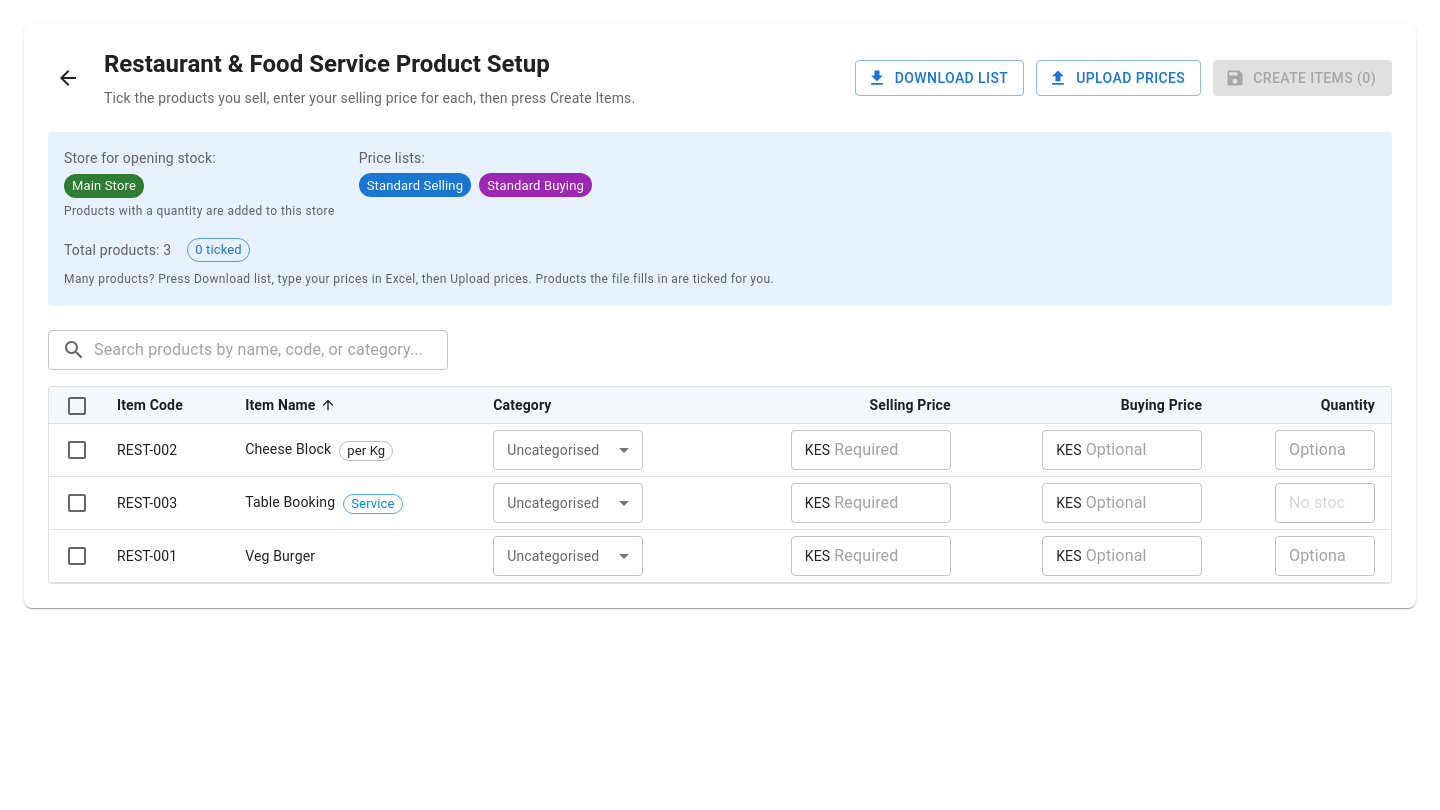
it: Starter products page › units and services sent by the server › still refuses parts of a piece
expect the text "Veg Burger" is shown: met, box [229, 529, 477, 582]
Click the checkbox named "Tick Veg Burger" at (77, 556), box [65, 544, 89, 568]
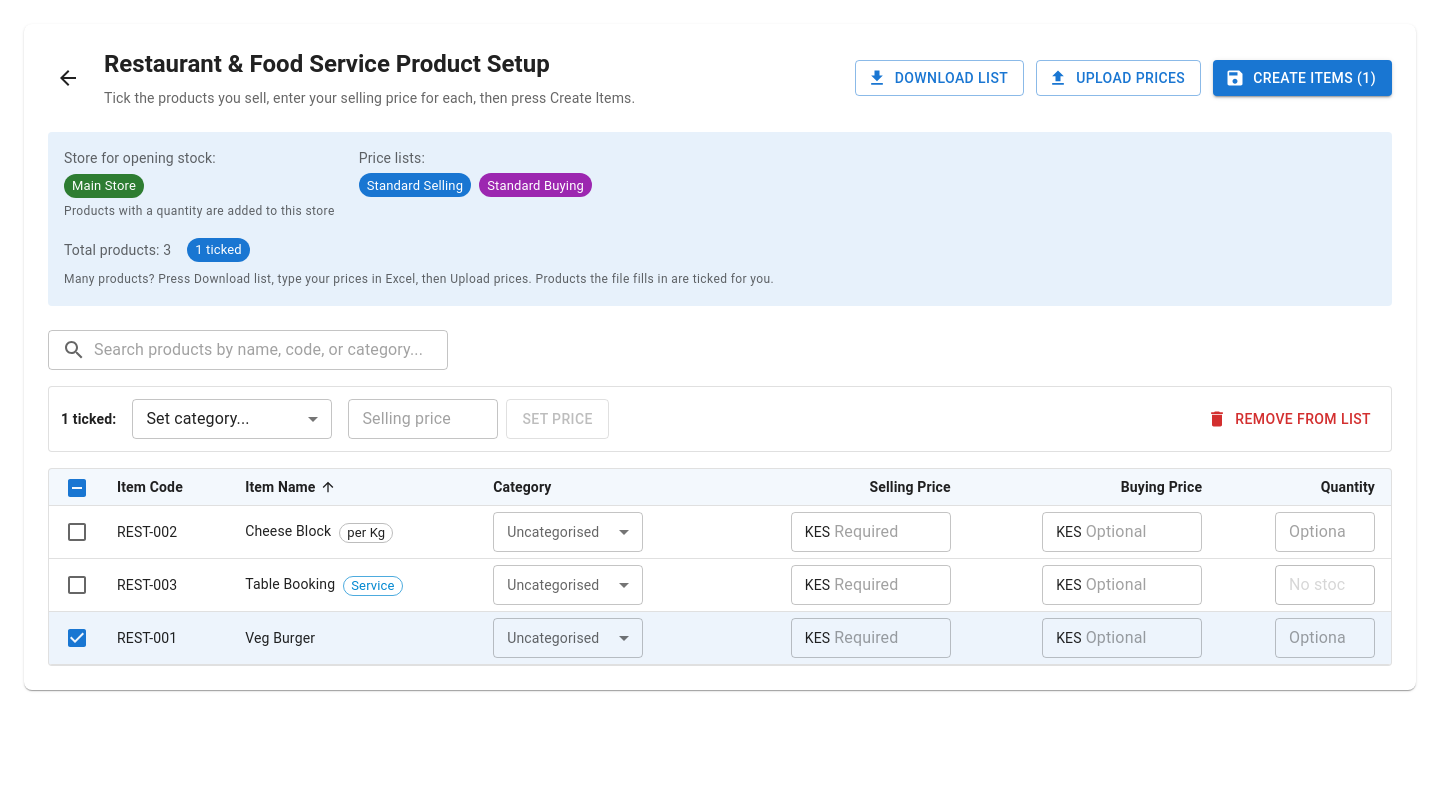
Type "350" into the number field named "Selling price for Veg Burger" at (893, 638), box [834, 618, 951, 658]
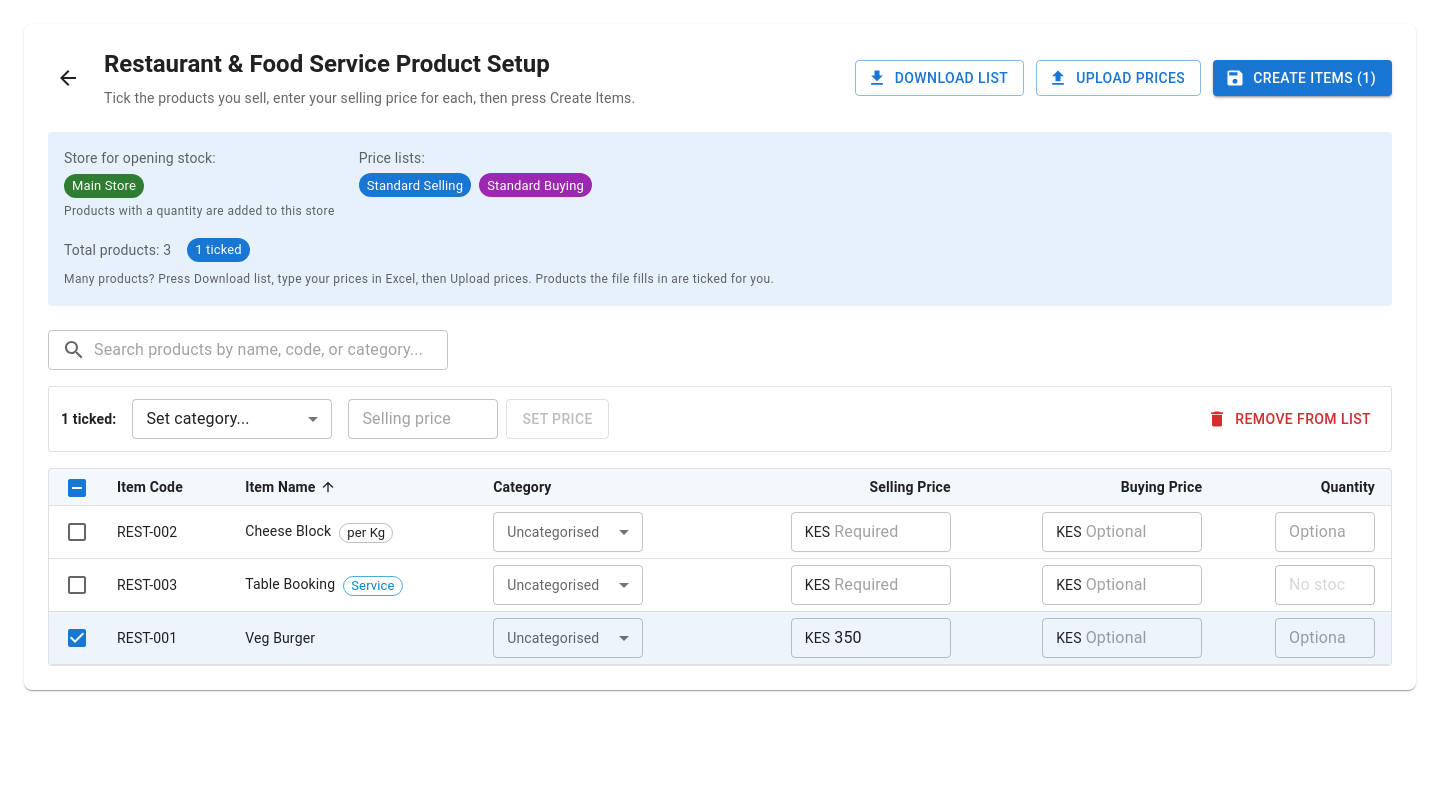
Type "2.5" into the number field named "Quantity for Veg Burger" at (1325, 638), box [1275, 618, 1375, 658]
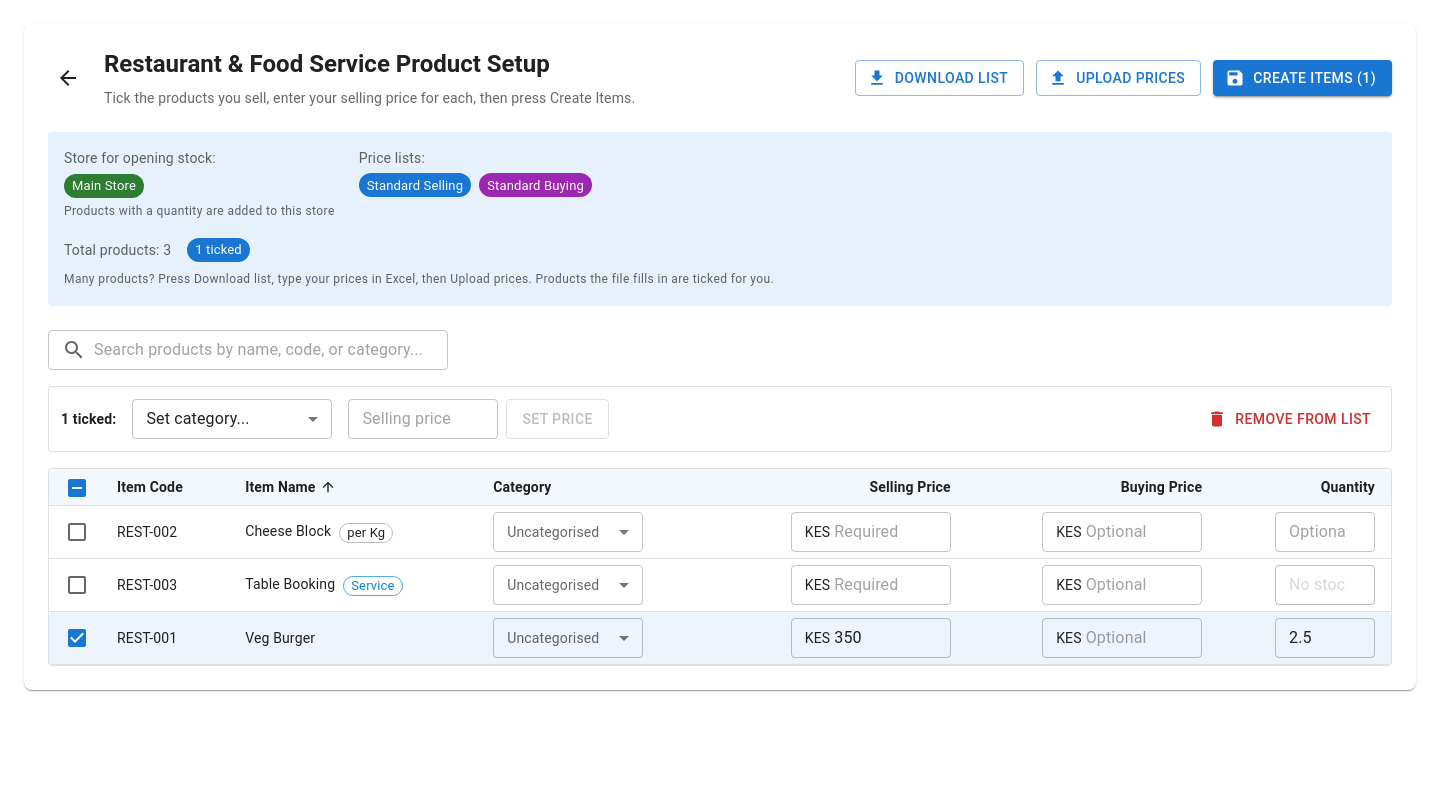
Click the button "Create Items (1)" at (1303, 78), box [1213, 60, 1392, 96]
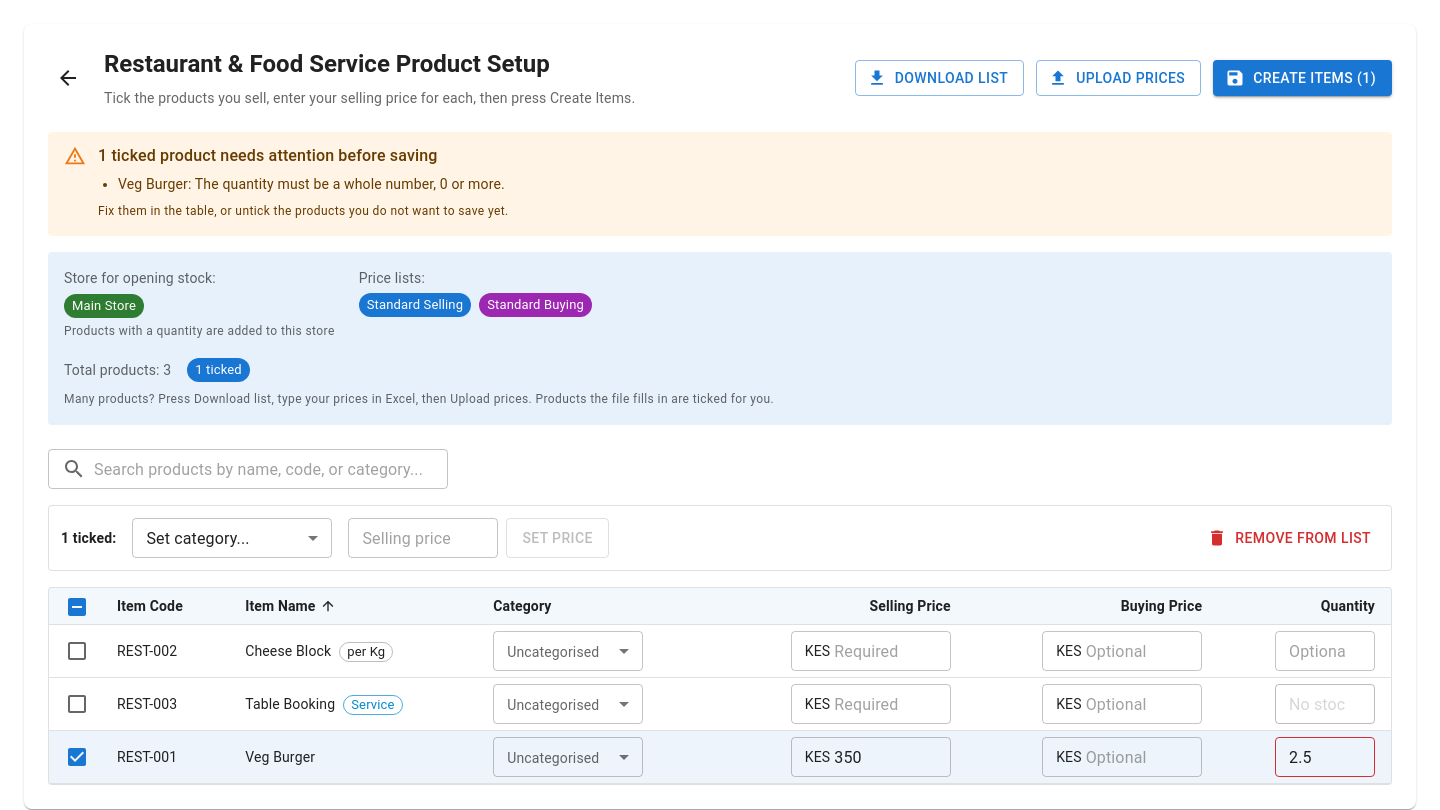
expect the list item "Veg Burger: The quantity must be a whole number, 0 or more." is shown: met, box [118, 174, 509, 194]
